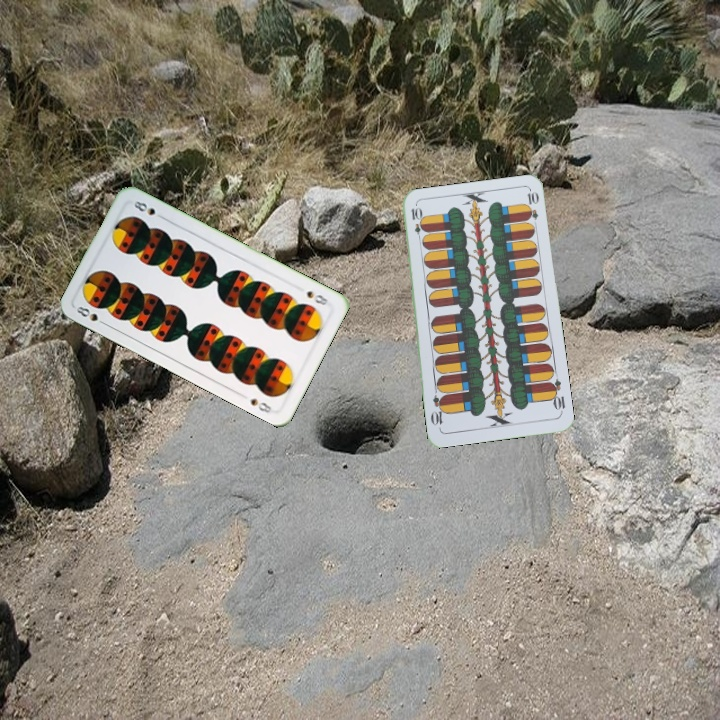E10: (545, 375, 568, 416), (407, 203, 425, 244)
S8: (72, 302, 110, 328), (302, 287, 331, 308)
